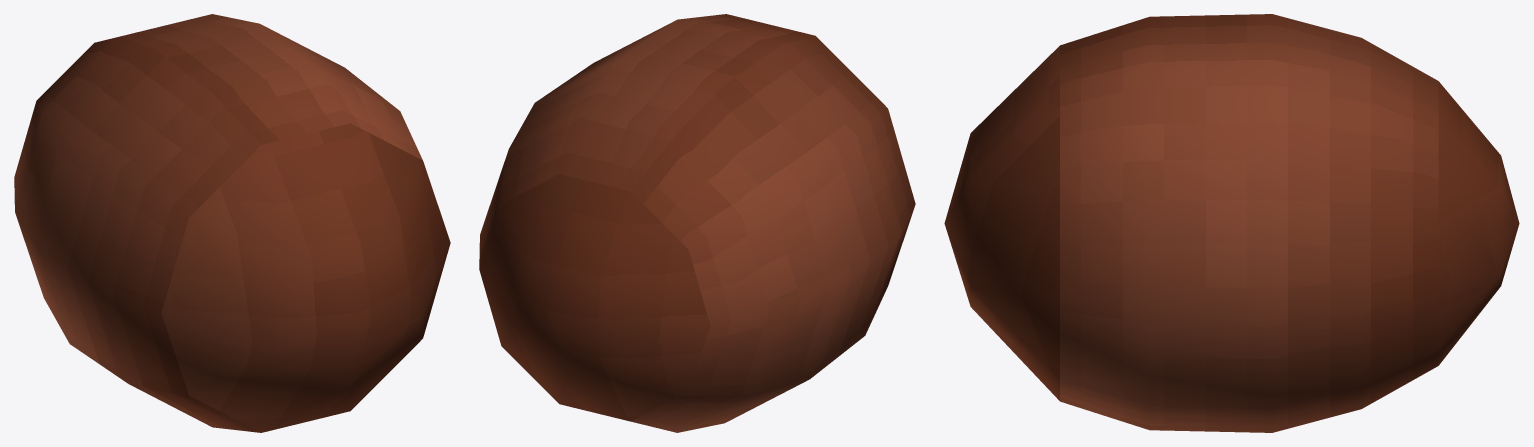
File: Large_Egg.fbx
3 renders of one model, left to right at view 1: azimuth 30°, elevation 25°; view 2: azimuth 150°, elevation 25°; view 3: azimuth 270°, elevation 25°, orthographic. The views are drawn at different scales.
Parts seen in each view (by area): view 1: ChocolateEgg.002; view 2: ChocolateEgg.002; view 3: ChocolateEgg.002.
Part boxes in pixels (x1=…): ChocolateEgg.002: x1=14, y1=14, x2=450, y2=432; ChocolateEgg.002: x1=479, y1=14, x2=915, y2=432; ChocolateEgg.002: x1=944, y1=14, x2=1519, y2=432.
Size of the model in its own units: 23.77 by 22.6 by 32.38.
